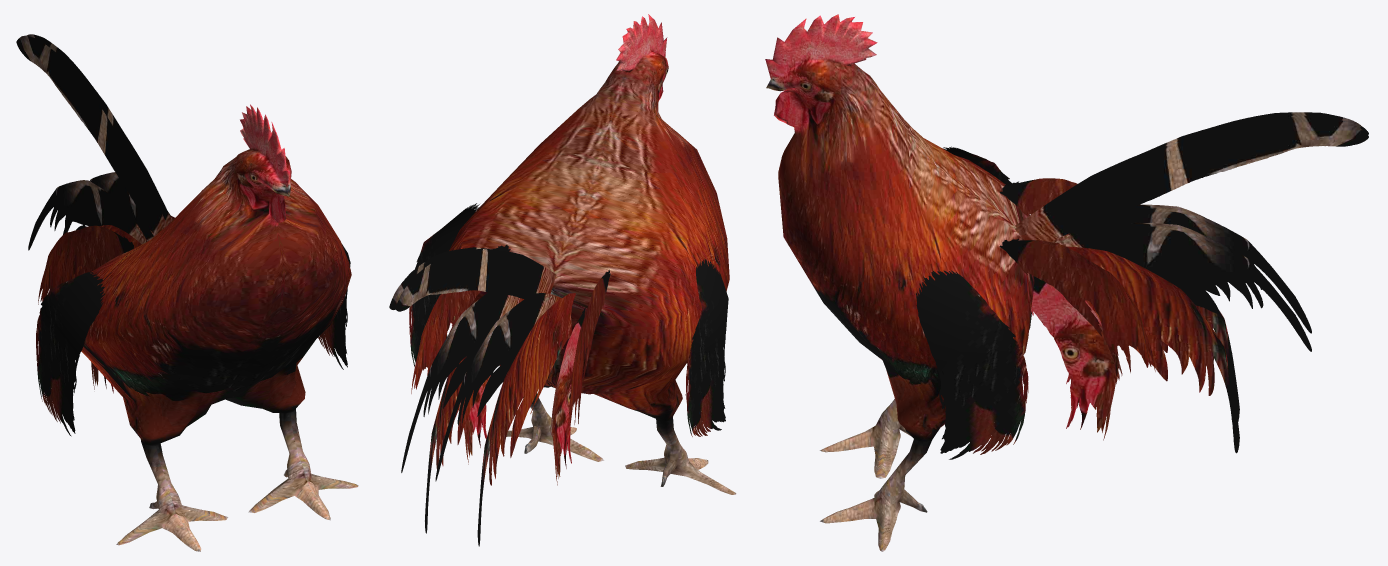
The model's file is chicken.fbx.
3 views of the same model, side by side, from view 1: azimuth 30°, elevation 25°; view 2: azimuth 150°, elevation 25°; view 3: azimuth 270°, elevation 25° (orthographic). The views are drawn at different scales.
Parts seen in each view (by area): view 1: chiken; view 2: chiken; view 3: chiken.
Boxes of the visible parts, x1=… form: chiken: x1=16, y1=34, x2=358, y2=551; chiken: x1=389, y1=14, x2=736, y2=546; chiken: x1=765, y1=14, x2=1368, y2=551.
Size of the model in its own units: 29.97 by 44.09 by 51.44.
Materials: 2 (2 with a texture image).
